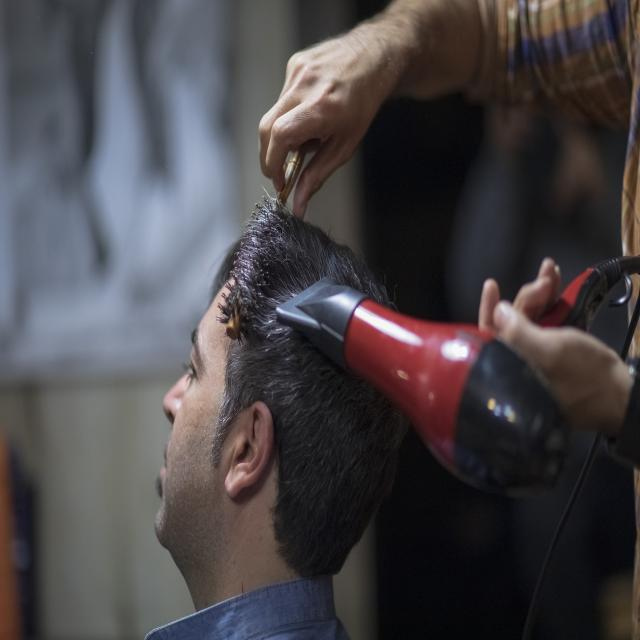dryer: (276, 252, 640, 511)
